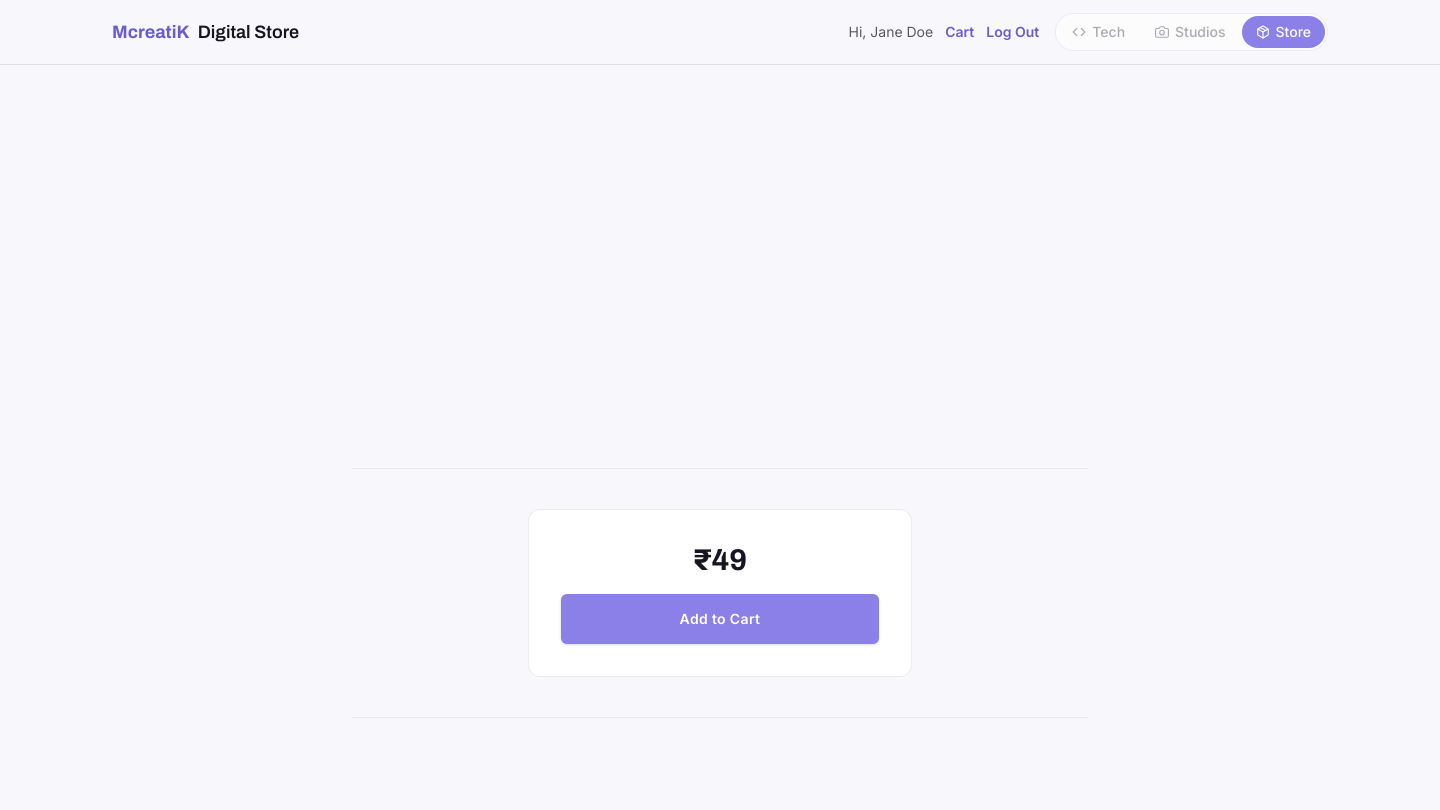
Test: StoreProductPage — backend re-validation rejection is surfaced, not swallowed › shows a plain-language unavailable message (not the raw backend string) when the product is no longer purchasable
Click the button "Add to Cart".
click(720, 619)  # box x1=561 y1=594 x2=879 y2=644
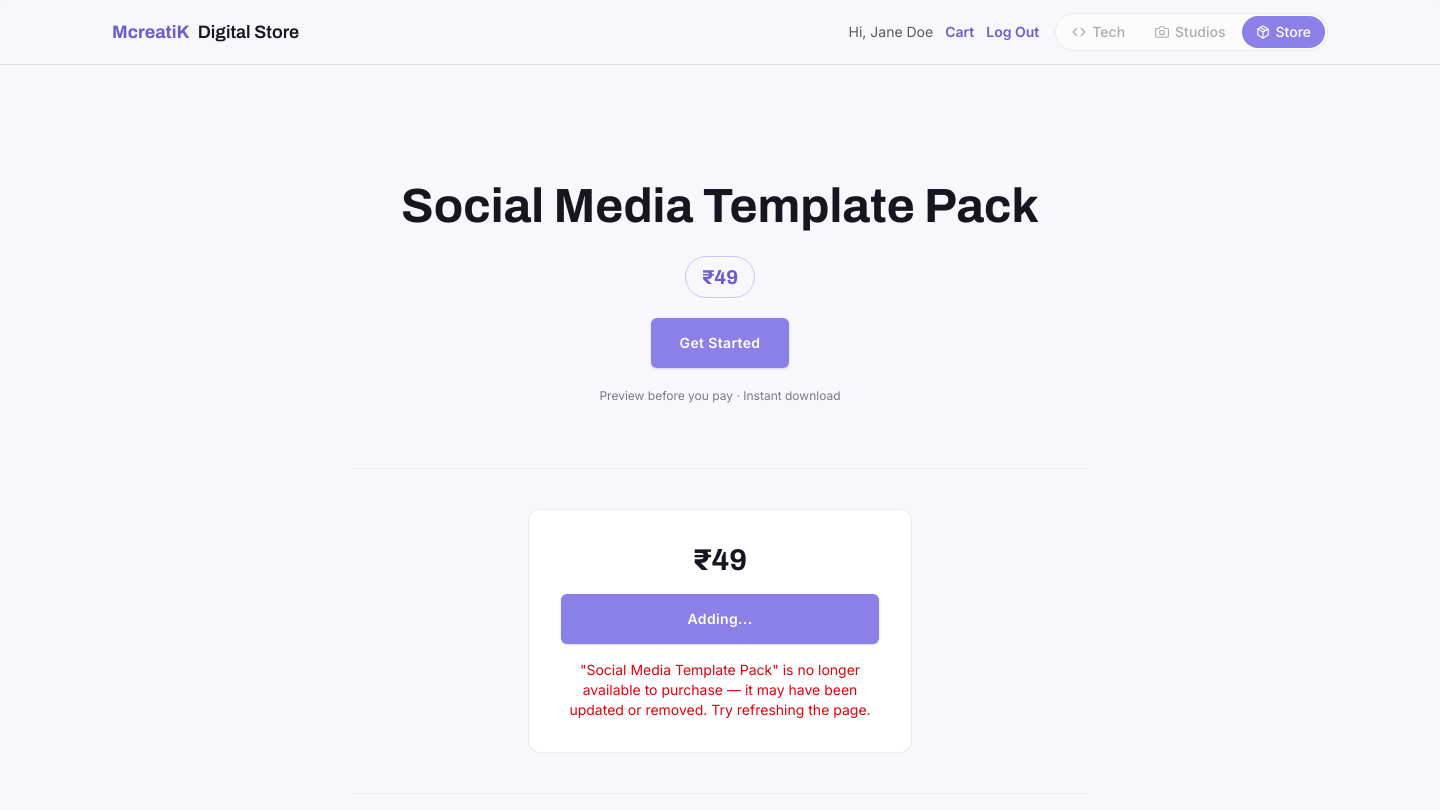
Expected: the text "no longer available to purchase" is shown, x1=569 y1=661 x2=871 y2=718
